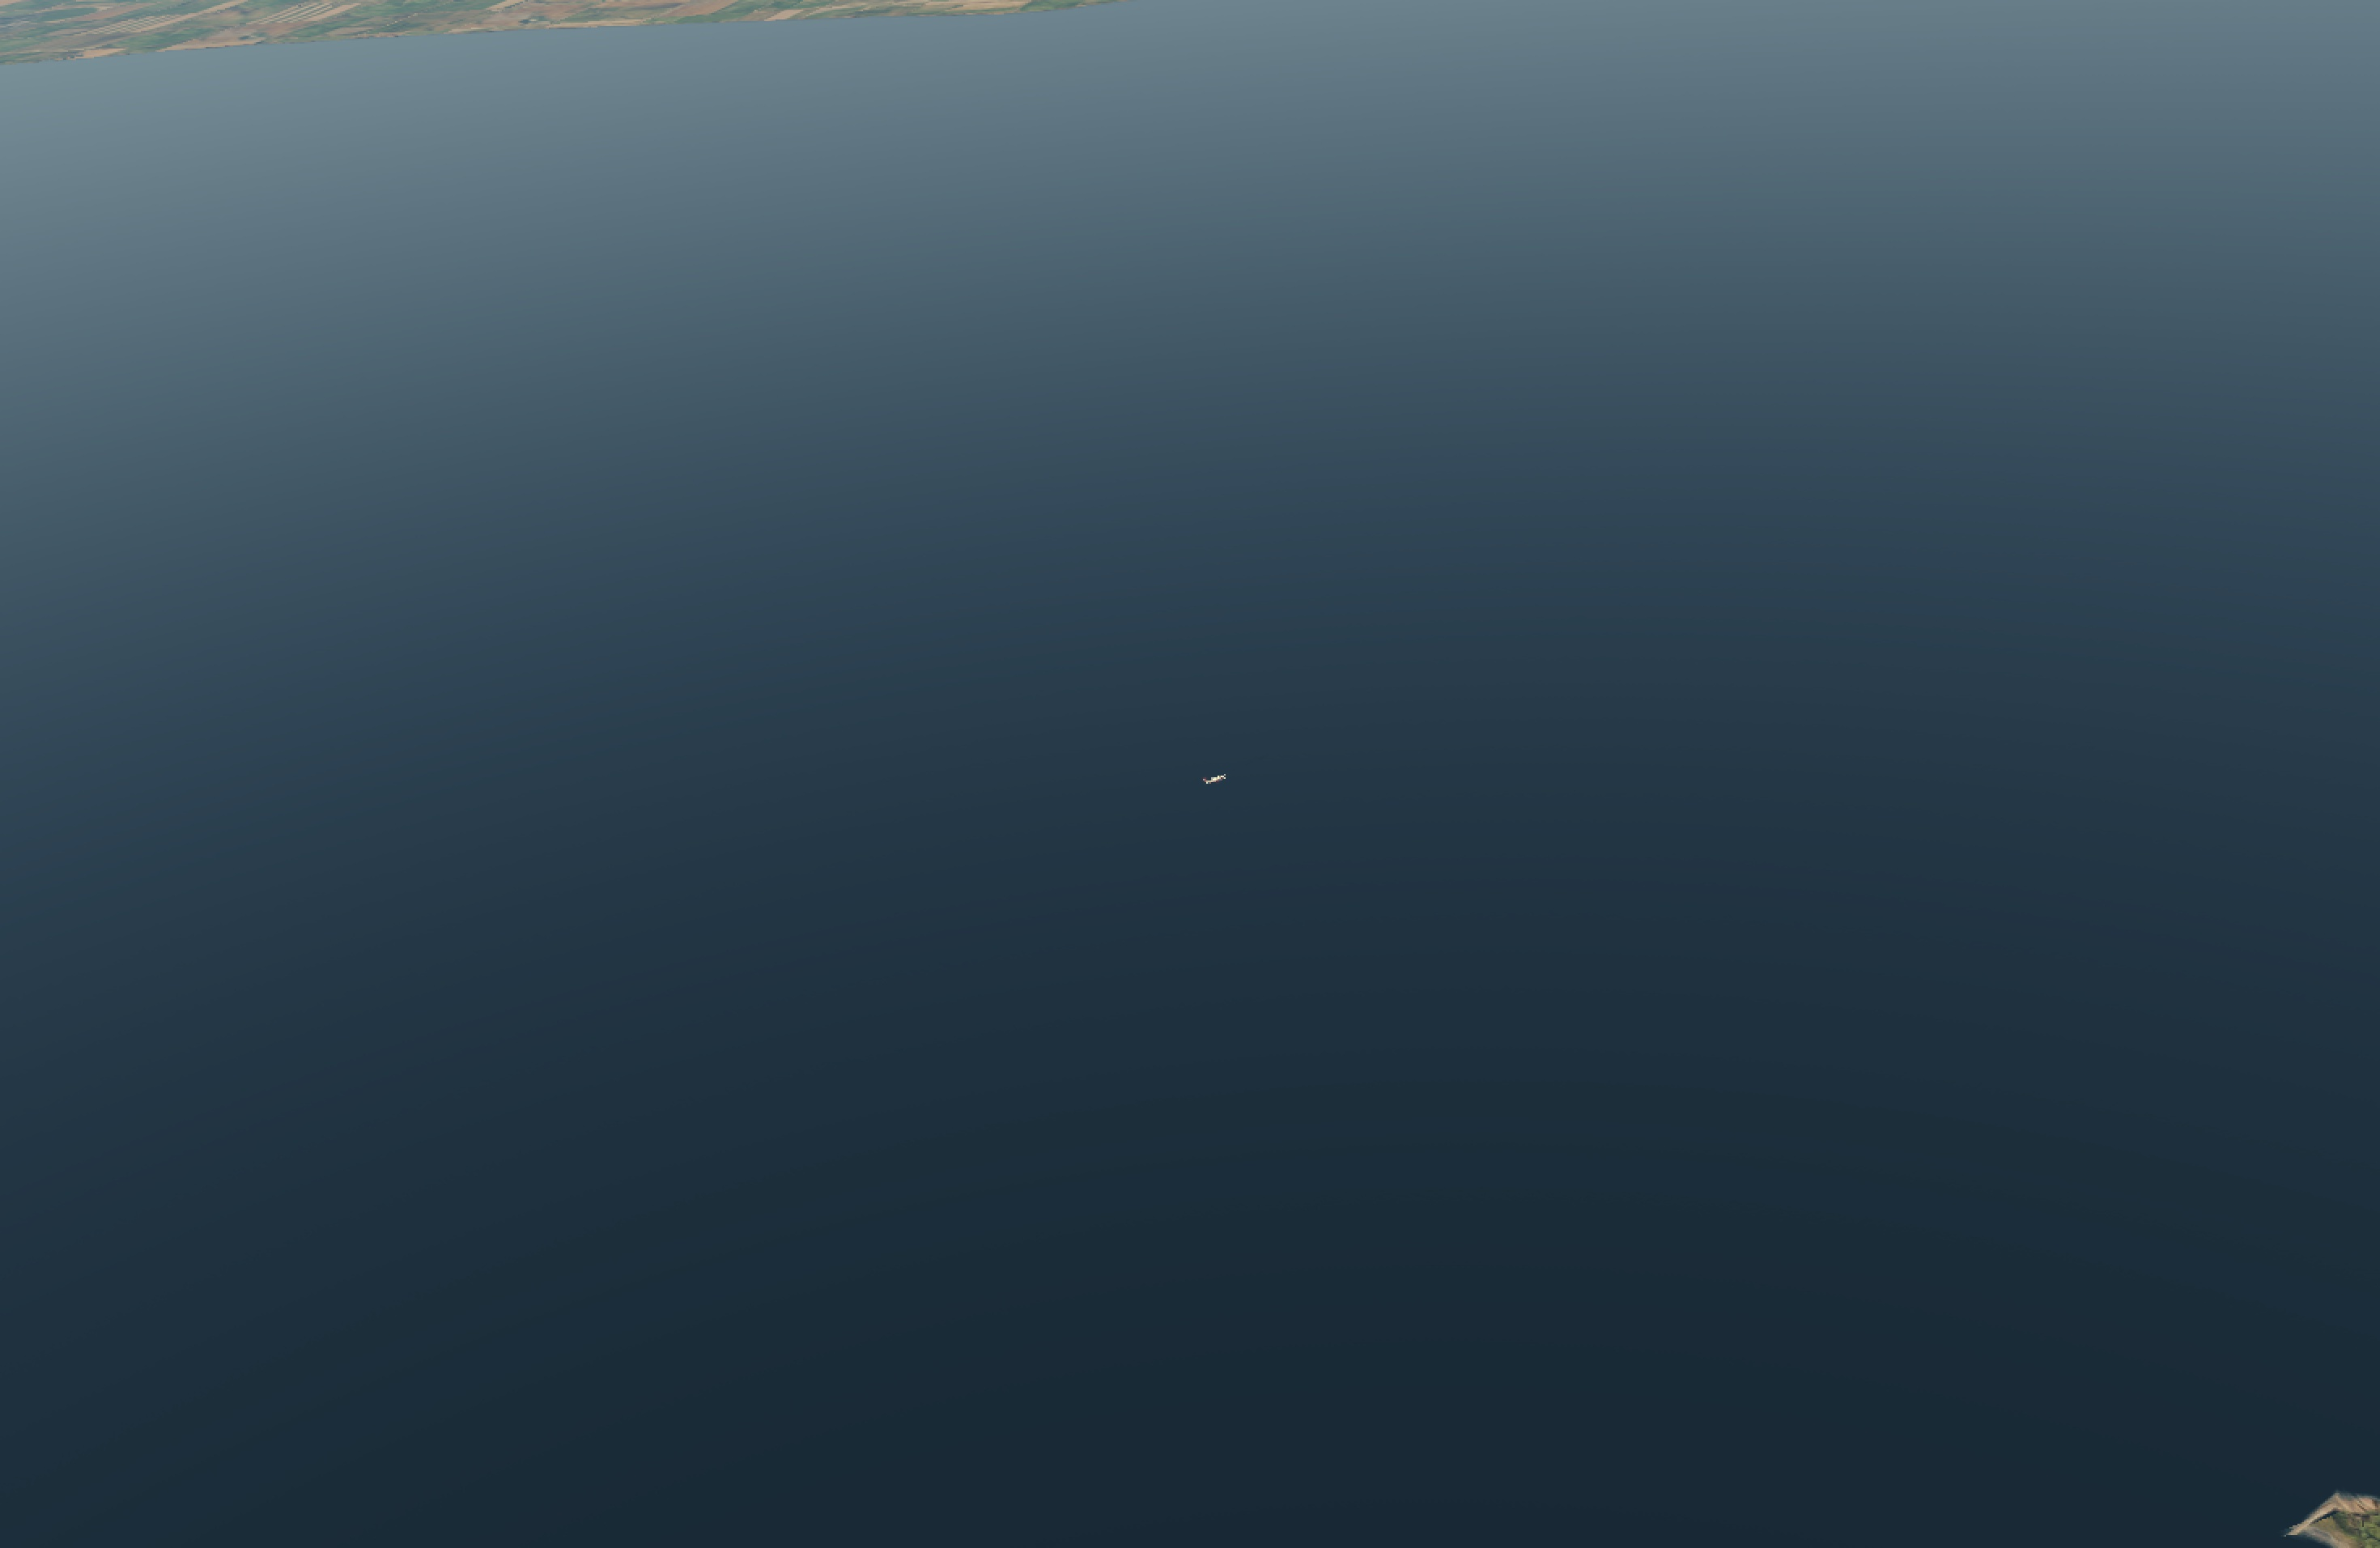aircraft: (1202, 772, 1237, 786)
